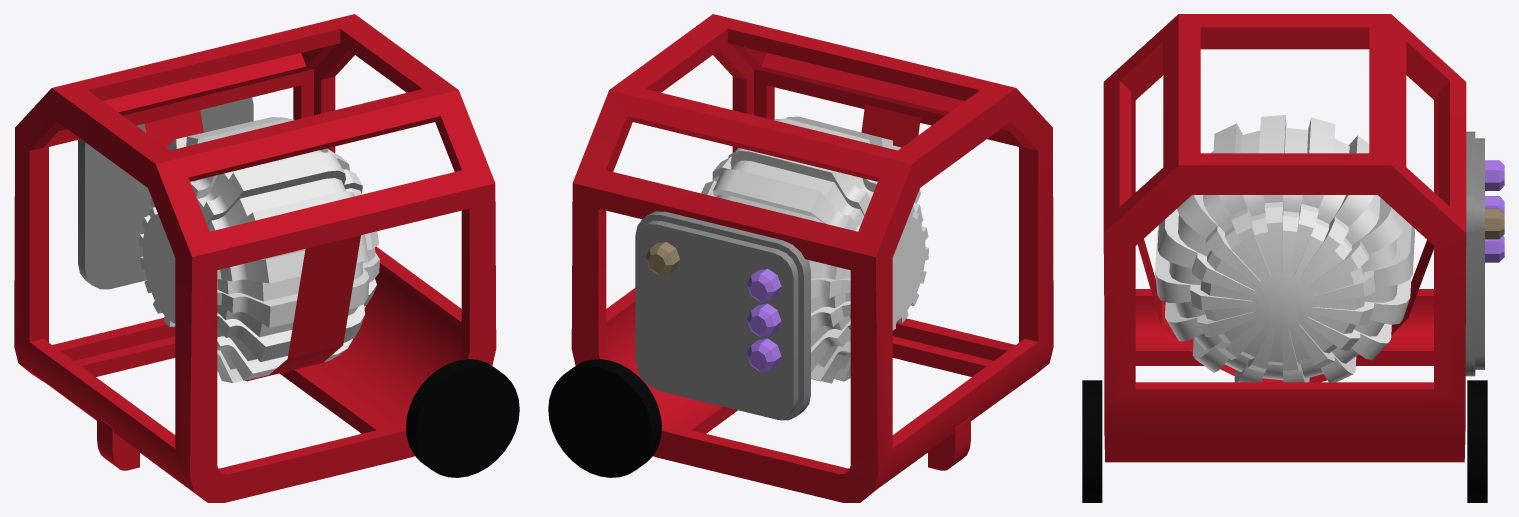
The model's file is power_generator.glb.
3 views of the same model, side by side, from view 1: azimuth 30°, elevation 25°; view 2: azimuth 150°, elevation 25°; view 3: azimuth 270°, elevation 25° (orthographic). The views are drawn at different scales.
Parts seen in each view (by area): view 1: Cylinder; view 2: Cylinder; view 3: Cylinder.
Boxes of the visible parts, x1,y1,x2,y2 form: Cylinder: [14, 14, 519, 502]; Cylinder: [548, 14, 1053, 502]; Cylinder: [1082, 14, 1504, 502].
Bounding box in the file's own units: 2.29 × 2.36 × 2.57.
